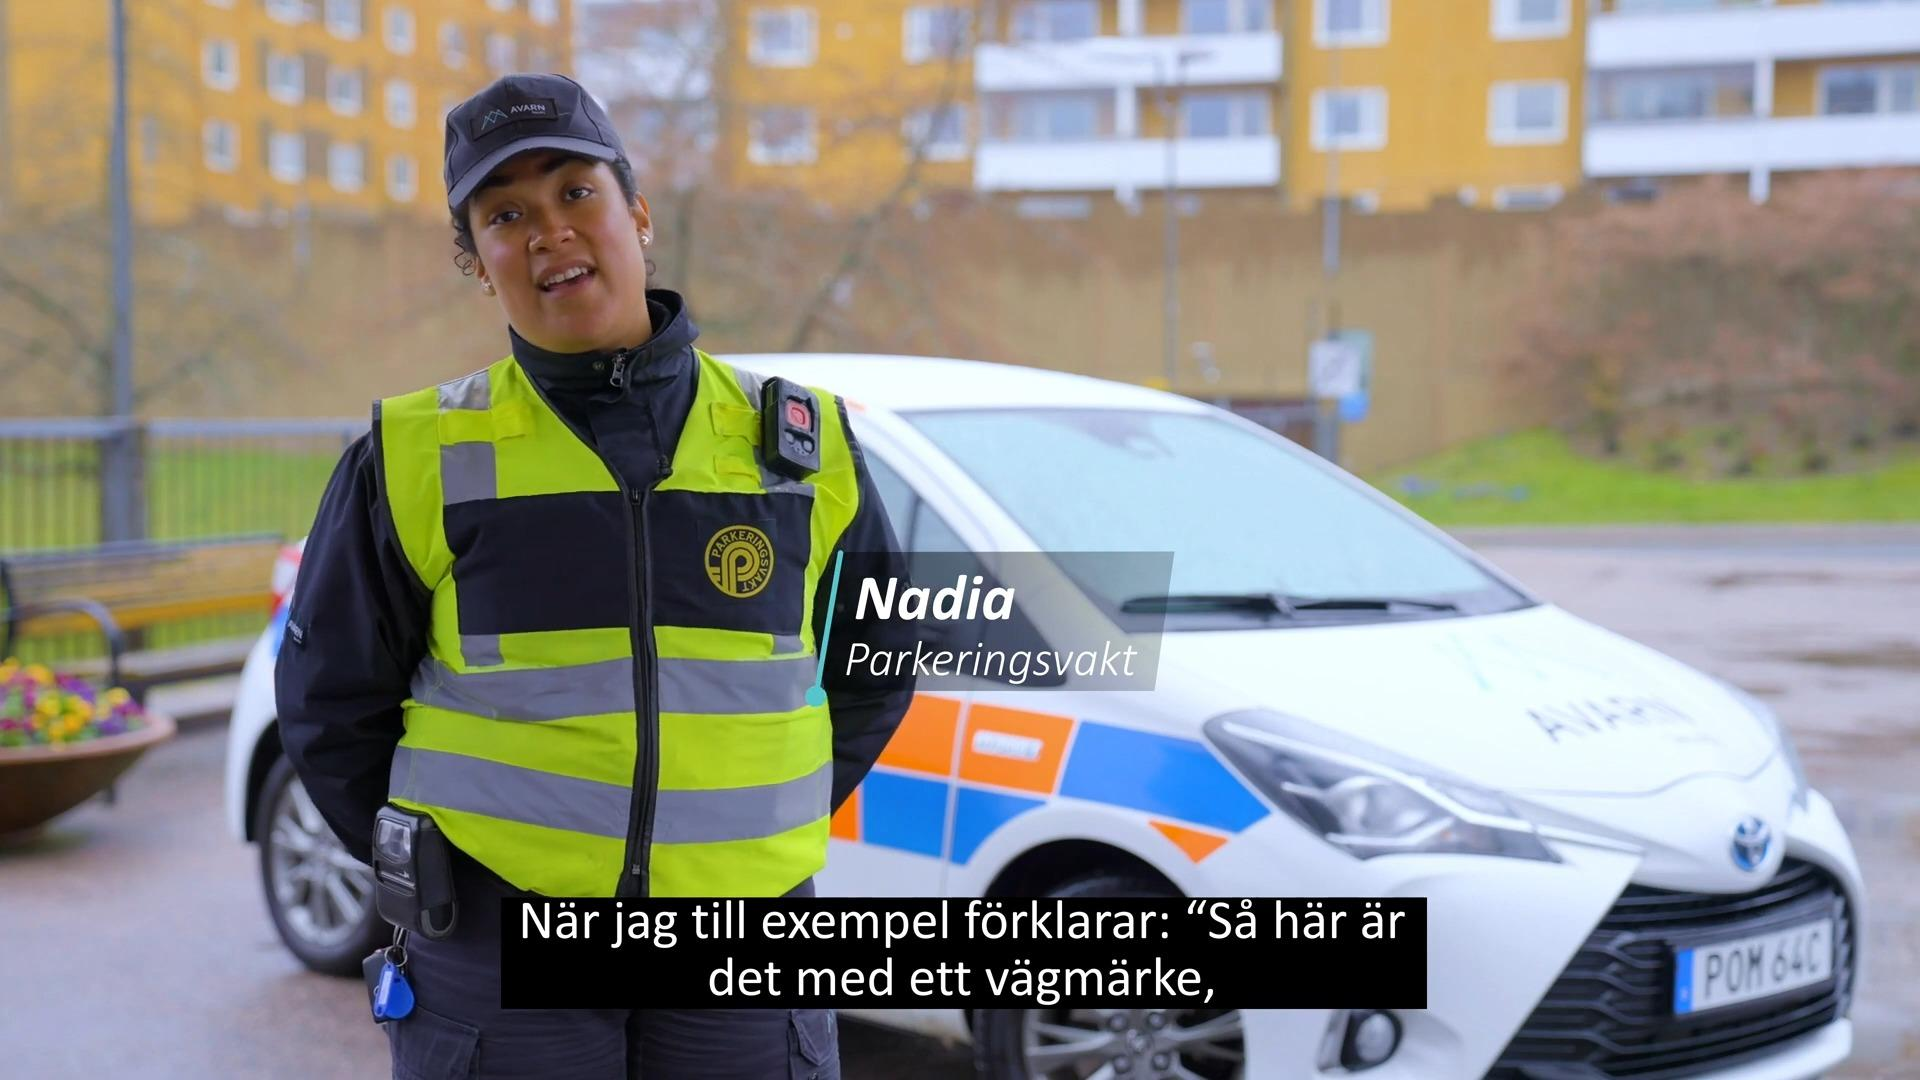parking-attendant: (276, 73, 913, 1079)
